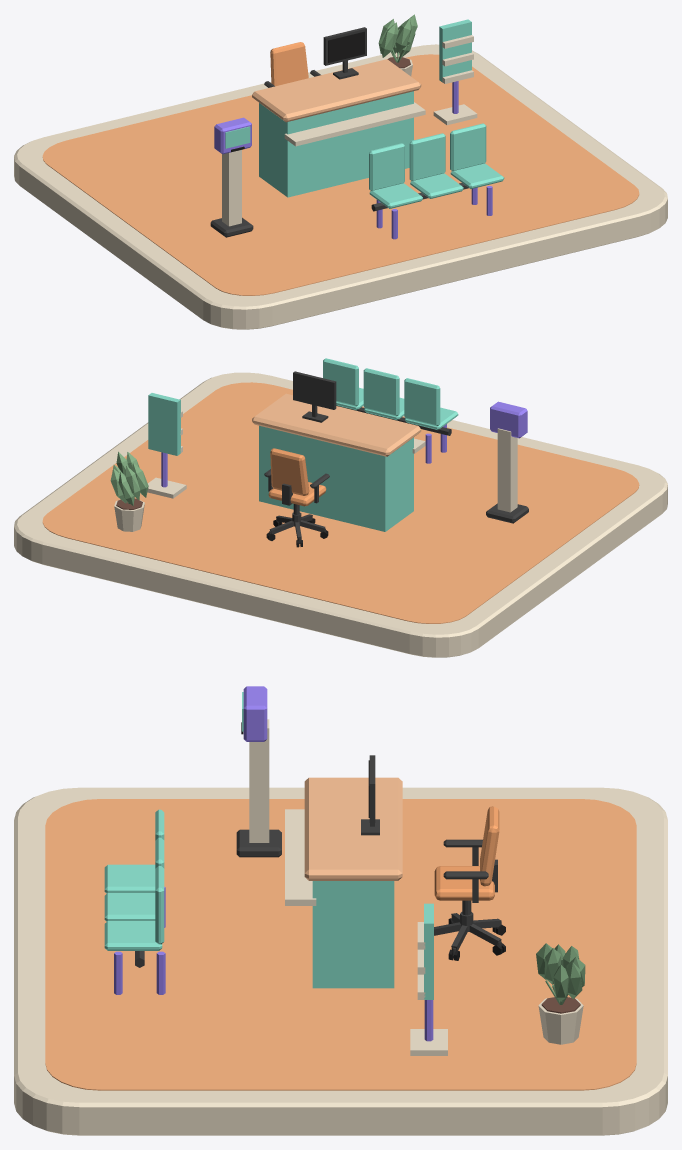
3 renders of one model, top to bottom at view 1: azimuth 30°, elevation 25°; view 2: azimuth 150°, elevation 25°; view 3: azimuth 270°, elevation 25°, orthographic. The views are drawn at different scales.
Visible parts, largest first — view 1: COM-02 Floor Surface, COM-01 Rounded Base Direct, Counter body, Countertop, Visitor shelf, Frame, Back.001, Back.002, COM-04_Chair_blender_direct, Back, Pedestal, Pot (+7 smaller); view 2: COM-02 Floor Surface, COM-01 Rounded Base Direct, Counter body, Countertop, COM-04_Chair_blender_direct, Pot, Pedestal, Frame, Back.001, Back, Back.002, Display housing (+5 smaller); view 3: COM-02 Floor Surface, COM-01 Rounded Base Direct, Countertop, Counter body, COM-04_Chair_blender_direct, Pot, Pedestal, Visitor shelf, Seat.002, Seat, Seat.001, Display housing (+4 smaller).
Boxes of the visible parts, x1=… form: COM-02 Floor Surface: x1=42, y1=54, x2=639, y2=295; COM-01 Rounded Base Direct: x1=14, y1=44, x2=667, y2=329; Counter body: x1=259, y1=91, x2=413, y2=197; Countertop: x1=252, y1=59, x2=421, y2=122; Visitor shelf: x1=284, y1=102, x2=425, y2=146; Frame: x1=323, y1=27, x2=366, y2=79; Back.001: x1=409, y1=133, x2=445, y2=180; Back.002: x1=450, y1=123, x2=486, y2=170; COM-04_Chair_blender_direct: x1=264, y1=42, x2=320, y2=87; Back: x1=369, y1=143, x2=404, y2=190; Pedestal: x1=222, y1=150, x2=241, y2=226; Pot: x1=378, y1=14, x2=417, y2=76; COM-02 Floor Surface: x1=42, y1=382, x2=639, y2=623; COM-01 Rounded Base Direct: x1=14, y1=372, x2=667, y2=657; Counter body: x1=259, y1=425, x2=413, y2=531; Countertop: x1=252, y1=393, x2=421, y2=456; COM-04_Chair_blender_direct: x1=264, y1=448, x2=329, y2=547; Pot: x1=110, y1=451, x2=148, y2=531; Pedestal: x1=497, y1=428, x2=517, y2=512; Frame: x1=293, y1=371, x2=336, y2=422; Back.001: x1=363, y1=368, x2=399, y2=416; Back: x1=404, y1=378, x2=440, y2=426; Back.002: x1=323, y1=358, x2=358, y2=406; Display housing: x1=490, y1=401, x2=527, y2=438; COM-02 Floor Surface: x1=45, y1=799, x2=636, y2=1090; COM-01 Rounded Base Direct: x1=14, y1=787, x2=667, y2=1135; Countertop: x1=304, y1=777, x2=402, y2=880; Counter body: x1=312, y1=881, x2=394, y2=988; COM-04_Chair_blender_direct: x1=434, y1=806, x2=505, y2=960; Pot: x1=536, y1=943, x2=585, y2=1044; Pedestal: x1=249, y1=719, x2=269, y2=842; Visitor shelf: x1=285, y1=809, x2=316, y2=905; Seat.002: x1=104, y1=921, x2=162, y2=950; Seat: x1=104, y1=864, x2=155, y2=893; Seat.001: x1=104, y1=893, x2=155, y2=921; Display housing: x1=243, y1=686, x2=267, y2=741.
Bounding box in the file's own units: 6 × 1.92 × 5.2.
Materials: 1 (1 with a texture image).
